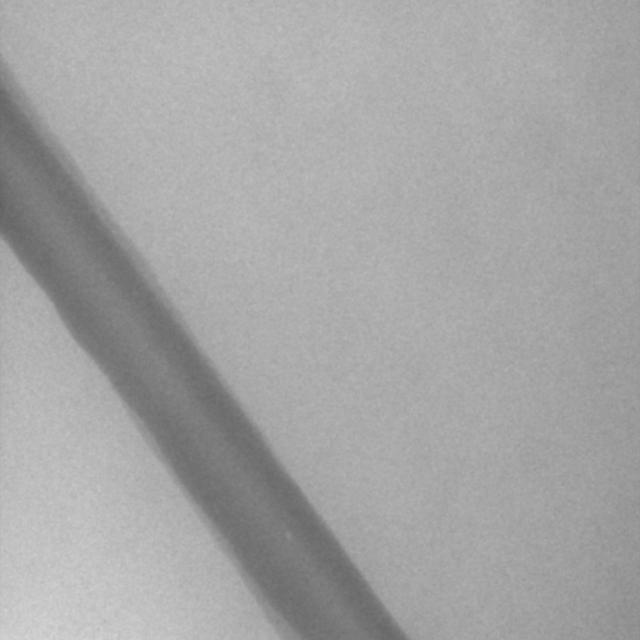air-hole: (285, 530, 292, 548)
